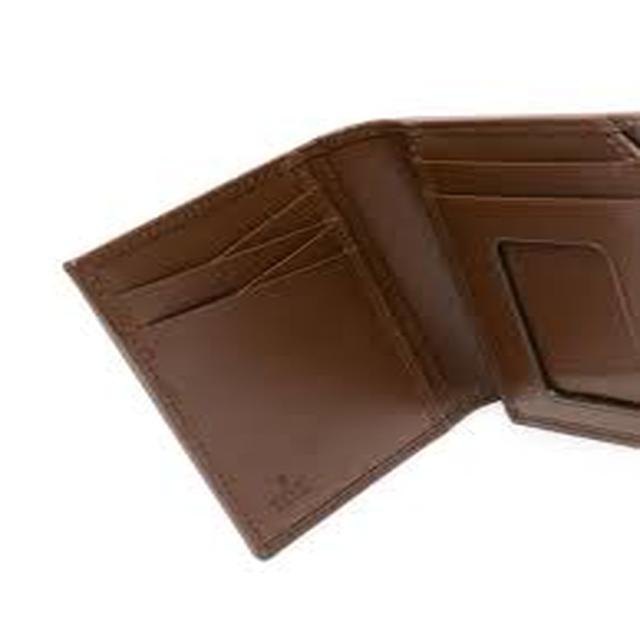wallet: (57, 101, 640, 602)
